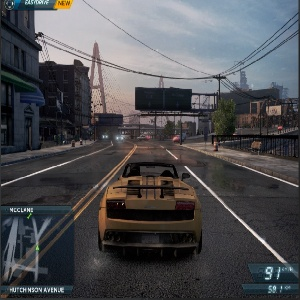ad: (265, 105, 282, 116)
road sign: (203, 125, 210, 149)
tree: (214, 98, 237, 138)
vehicle: (173, 131, 187, 142), (98, 129, 111, 140), (115, 133, 125, 143)
